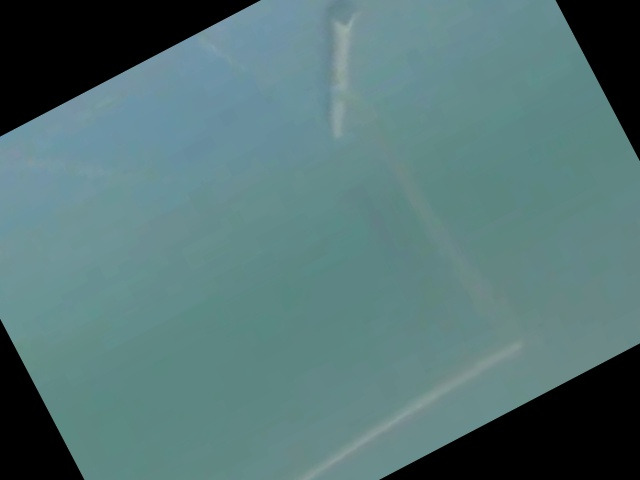gate: (183, 7, 547, 480)
